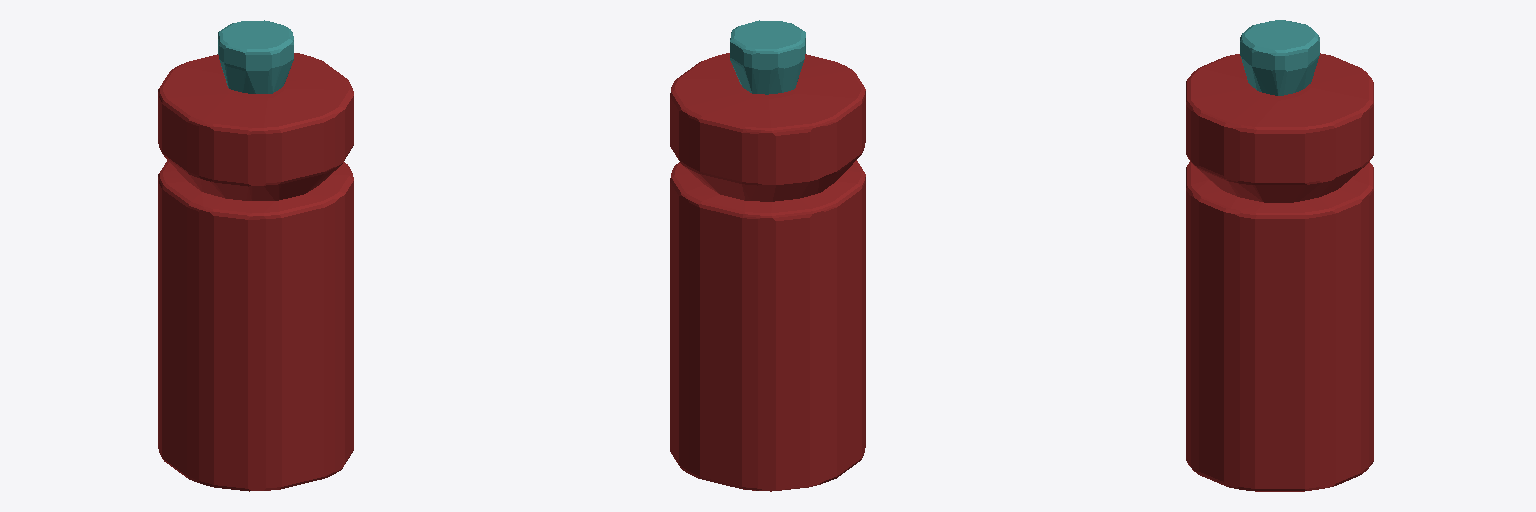
URDF robot description (root):
<robot name="root">
  <link name="bottle_body">
    <inertial>
      <origin xyz="0 0 0" rpy="0 0 0"/>
    </inertial>
    <mass value="1.00E-02"/>
    <visual>
      <origin xyz="0 0 0" rpy="0 0 0"/>
      <geometry>
        <mesh filename="core-bottle-d829ffd1d35f36a61ad51dad4e9c1543-coacd_convex_piece_1.obj" scale="1.0000E-01 1.0000E-01 1.0000E-01"/>
      </geometry>
      <material name="">
        <color rgba="6.00E-01 2.00E-01 2.00E-01 1"/>
      </material>
    </visual>
    <collision>
      <origin xyz="0 0 0" rpy="0 0 0"/>
      <geometry>
        <mesh filename="core-bottle-d829ffd1d35f36a61ad51dad4e9c1543-coacd_convex_piece_1.obj" scale="1.0000E-01 1.0000E-01 1.0000E-01"/>
      </geometry>
    </collision>
    <visual>
      <origin xyz="0 0 0" rpy="0 0 0"/>
      <geometry>
        <mesh filename="core-bottle-d829ffd1d35f36a61ad51dad4e9c1543-coacd_convex_piece_2.obj" scale="1.0000E-01 1.0000E-01 1.0000E-01"/>
      </geometry>
      <material name="">
        <color rgba="6.00E-01 2.00E-01 2.00E-01 1"/>
      </material>
    </visual>
    <collision>
      <origin xyz="0 0 0" rpy="0 0 0"/>
      <geometry>
        <mesh filename="core-bottle-d829ffd1d35f36a61ad51dad4e9c1543-coacd_convex_piece_2.obj" scale="1.0000E-01 1.0000E-01 1.0000E-01"/>
      </geometry>
    </collision>
  </link>
  <link name="bottle_cap">
    <origin xyz="0 0 0.002" rpy="0 0 0"/>
    <mass value="1.00E-02"/>
    <visual>
      <origin xyz="0 0 0.002" rpy="0 0 0"/>
      <geometry>
        <mesh filename="core-bottle-d829ffd1d35f36a61ad51dad4e9c1543-coacd_convex_piece_0.obj" scale="1.0000E-01 1.0000E-01 1.0000E-01"/>
      </geometry>
      <material name="">
        <color rgba="3.00E-01 6.00E-01 6.00E-01 1"/>
      </material>
    </visual>
    <collision>
      <origin xyz="0 0 0.002" rpy="0 0 0"/>
      <geometry>
        <mesh filename="core-bottle-d829ffd1d35f36a61ad51dad4e9c1543-coacd_convex_piece_0.obj" scale="1.0000E-01 1.0000E-01 1.0000E-01"/>
      </geometry>
    </collision>
  </link>
  <joint name="bottle_cap_joint" type="revolute">
    <origin xyz="0 0 0" rpy="0 0 0"/>
    <parent link="bottle_body"/>
    <child link="bottle_cap"/>
    <axis xyz="0 0 1"/>
    <limit lower="0.00" upper="6.28"/>
    <dynamics damping="0.05"/>
  </joint>
</robot>

--- What the picture shows (computed from the rendered views, not written in the file) ---
The picture shows the robot from 3 angles, left to right: view 1: azimuth 30°, elevation 25°; view 2: azimuth 150°, elevation 25°; view 3: azimuth 270°, elevation 25°; orthographic projection.
Model root with 2 links and 1 joints (1 revolute), rooted at bottle_body, posed every joint at zero.
Visible links, largest first — view 1: bottle_body, bottle_cap; view 2: bottle_body, bottle_cap; view 3: bottle_body, bottle_cap.
Link boxes in pixels (x1,y1,x2,y2): bottle_body: (158,53,353,491); bottle_cap: (218,20,293,93); bottle_body: (670,53,865,491); bottle_cap: (730,20,805,94); bottle_body: (1186,53,1373,491); bottle_cap: (1240,20,1319,95).
Bounding box of the posed robot: 0.0748 × 0.0748 × 0.1831 m (x, y, z).
Meshes: 3 distinct files referenced, 3 mesh visuals loaded (3 OBJ).